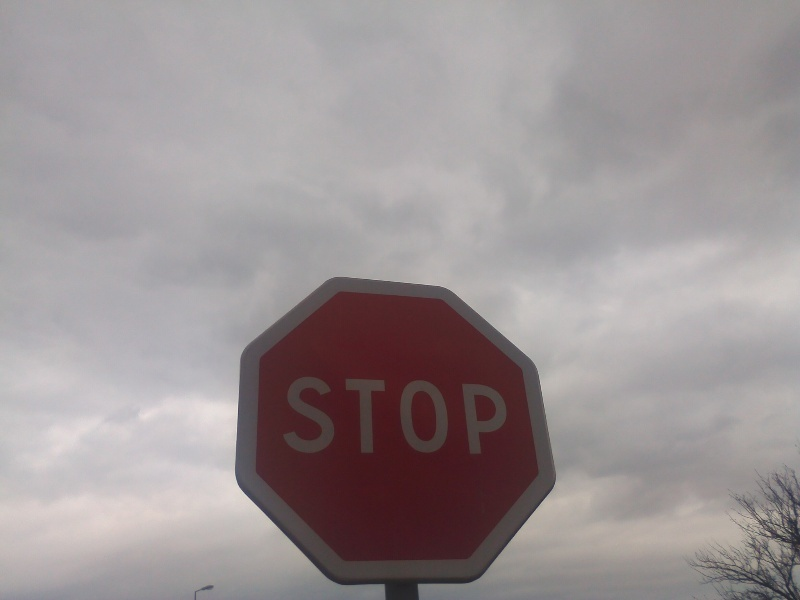text: (289, 376, 304, 457), (305, 376, 320, 457), (321, 376, 336, 457), (337, 376, 352, 457), (353, 376, 368, 457), (369, 376, 384, 457), (385, 376, 400, 457), (401, 376, 416, 457), (417, 376, 432, 457), (433, 376, 448, 457), (449, 376, 464, 457), (465, 376, 480, 457), (481, 376, 496, 457), (497, 376, 511, 457), (284, 376, 288, 457)
